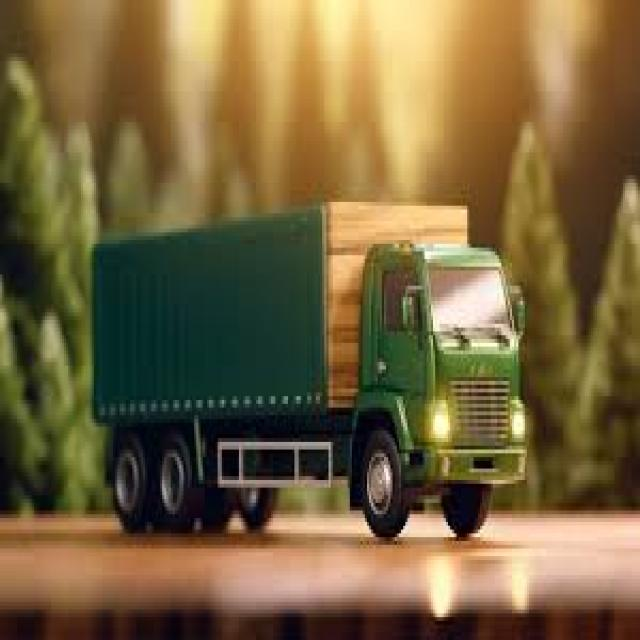Truck: (89, 183, 530, 541)
